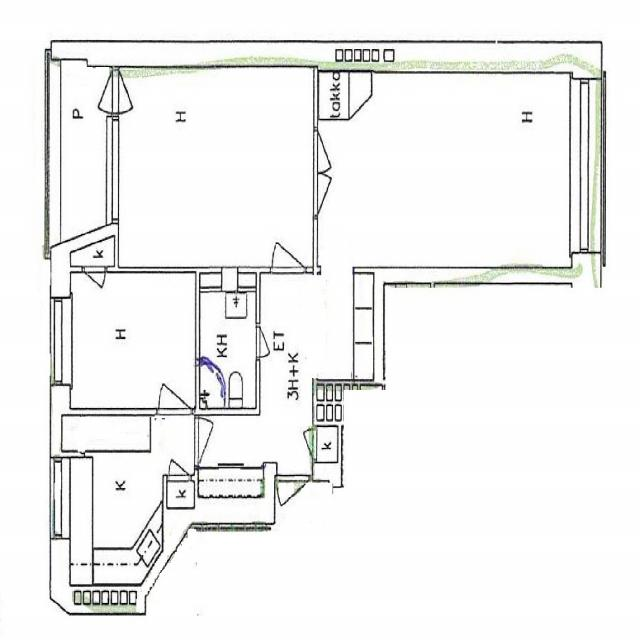door: (159, 358, 191, 414), (272, 217, 304, 273), (277, 475, 308, 530), (195, 417, 229, 465), (113, 68, 147, 114), (84, 68, 118, 114), (314, 130, 346, 173), (314, 173, 346, 215), (82, 267, 105, 308), (168, 442, 190, 480), (292, 428, 317, 461), (256, 327, 280, 358)
